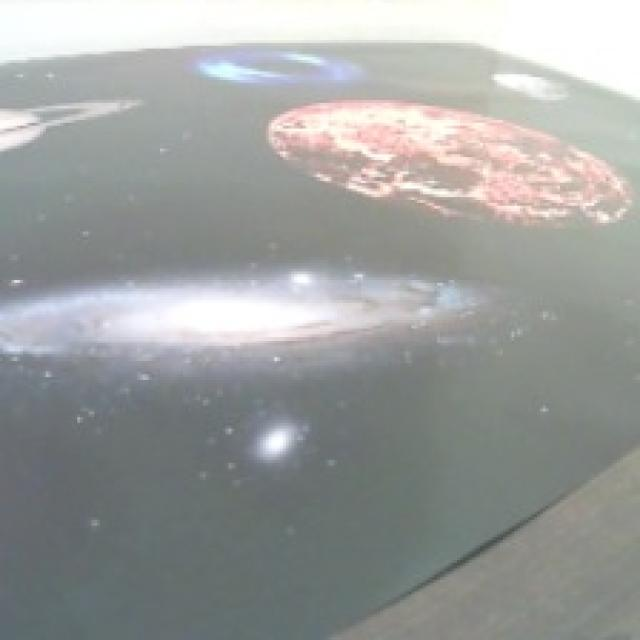Asteroid: (494, 71, 573, 104)
Black Hole: (196, 49, 362, 89)
Galaxy: (0, 266, 504, 372)
Saturn: (0, 97, 143, 152)
Sun: (267, 98, 635, 225)
